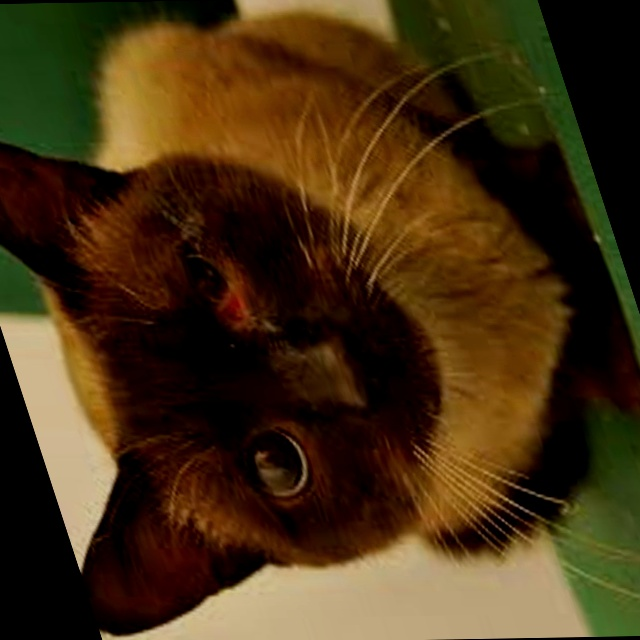eye_infection: (183, 257, 249, 317)
